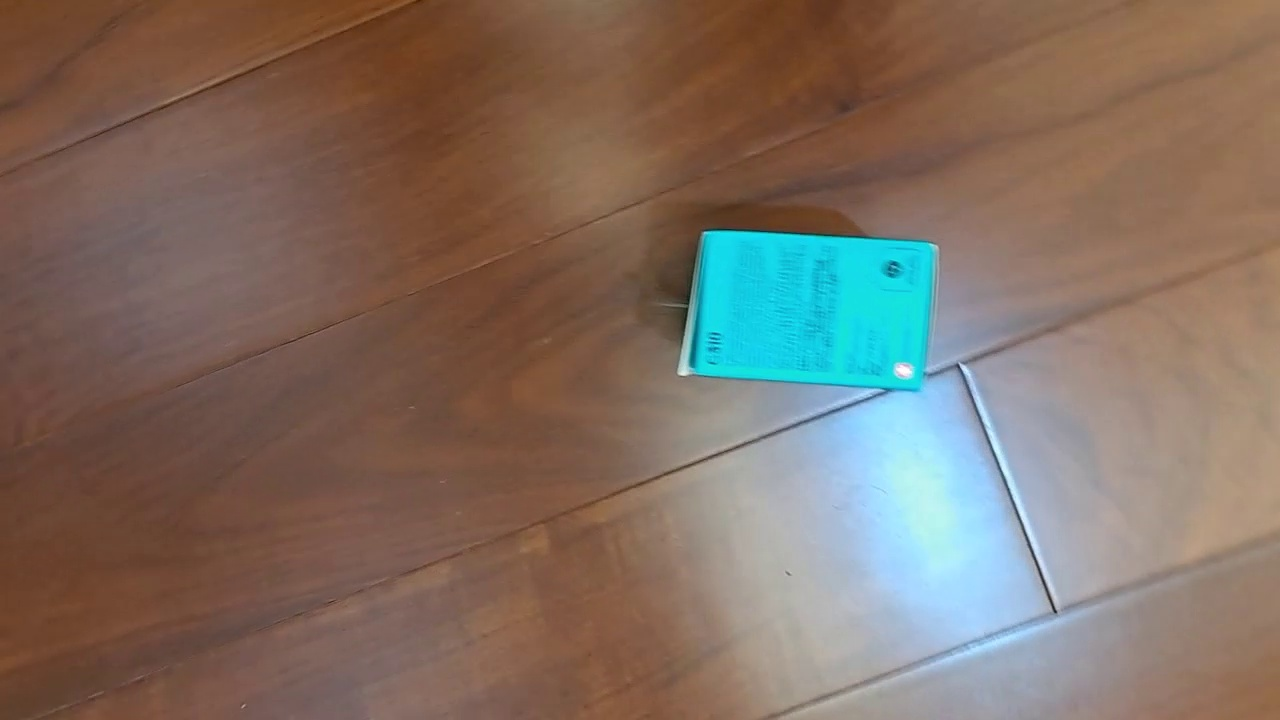webcam: (675, 229, 941, 393)
